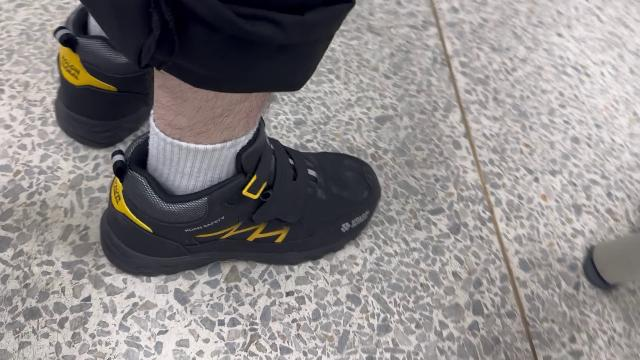shoe_worn: (106, 129, 388, 279), (49, 1, 181, 141)
